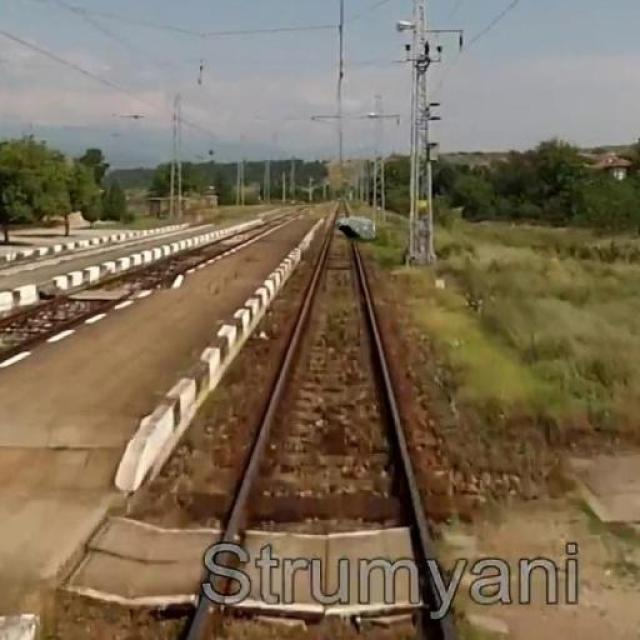Stone: (336, 212, 384, 242)
